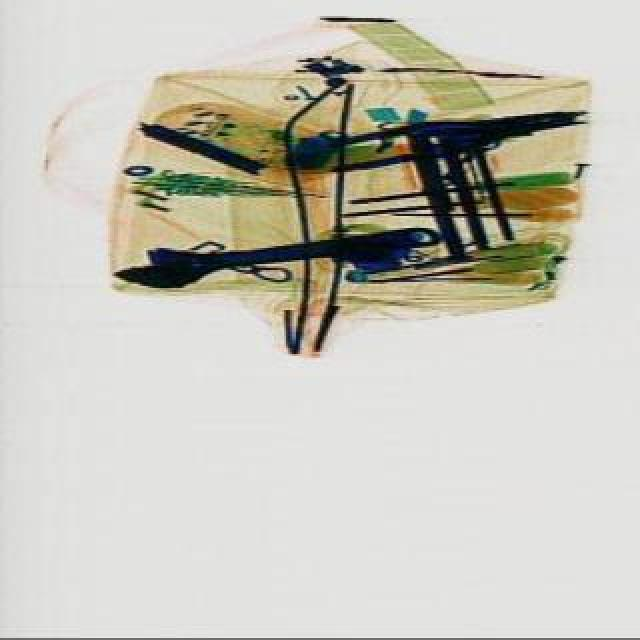scissors: (106, 210, 438, 296)
wrench: (372, 96, 586, 164)
